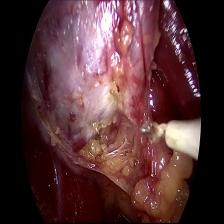Hook: (138, 111, 201, 173)
